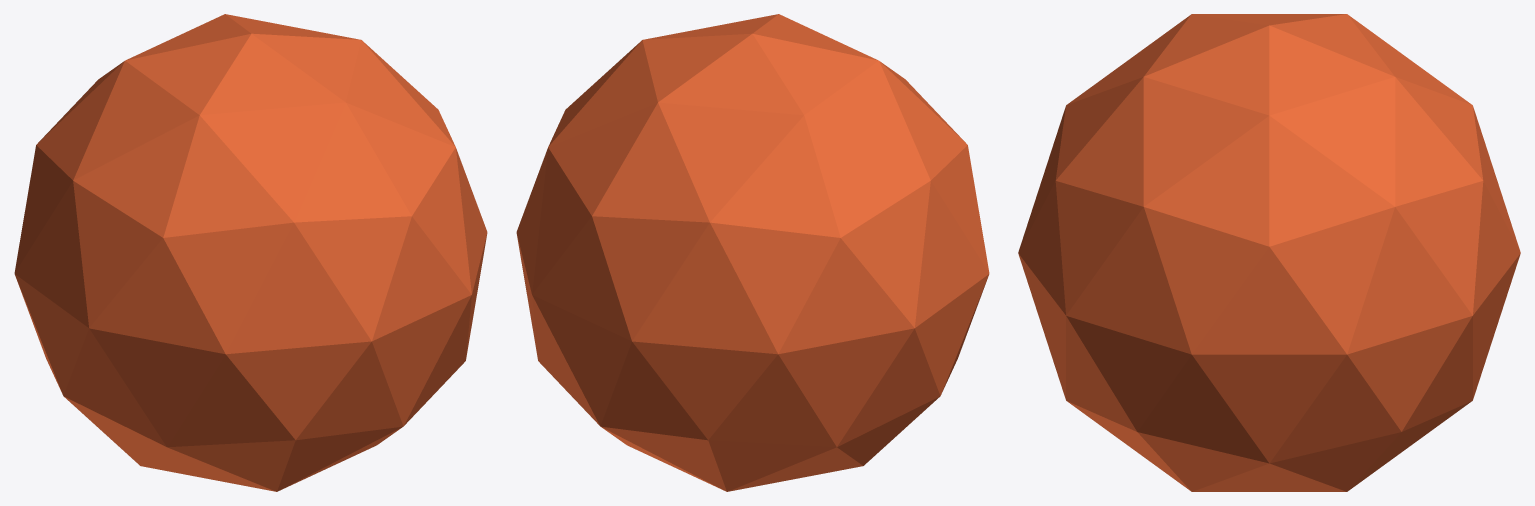
Rendered from RoomAI.gltf.
3 views of the same model, side by side, from view 1: azimuth 30°, elevation 25°; view 2: azimuth 150°, elevation 25°; view 3: azimuth 270°, elevation 25° (orthographic). The views are drawn at different scales.
Parts seen in each view (by area): view 1: 玩家内部角球v2; view 2: 玩家内部角球v2; view 3: 玩家内部角球v2.
Part boxes in pixels (x1,y1,x2,y2): 玩家内部角球v2: (14, 14, 487, 491); 玩家内部角球v2: (516, 14, 989, 491); 玩家内部角球v2: (1018, 14, 1520, 491).
Bounding box in the file's own units: 1.43 × 1.5 × 1.5.
